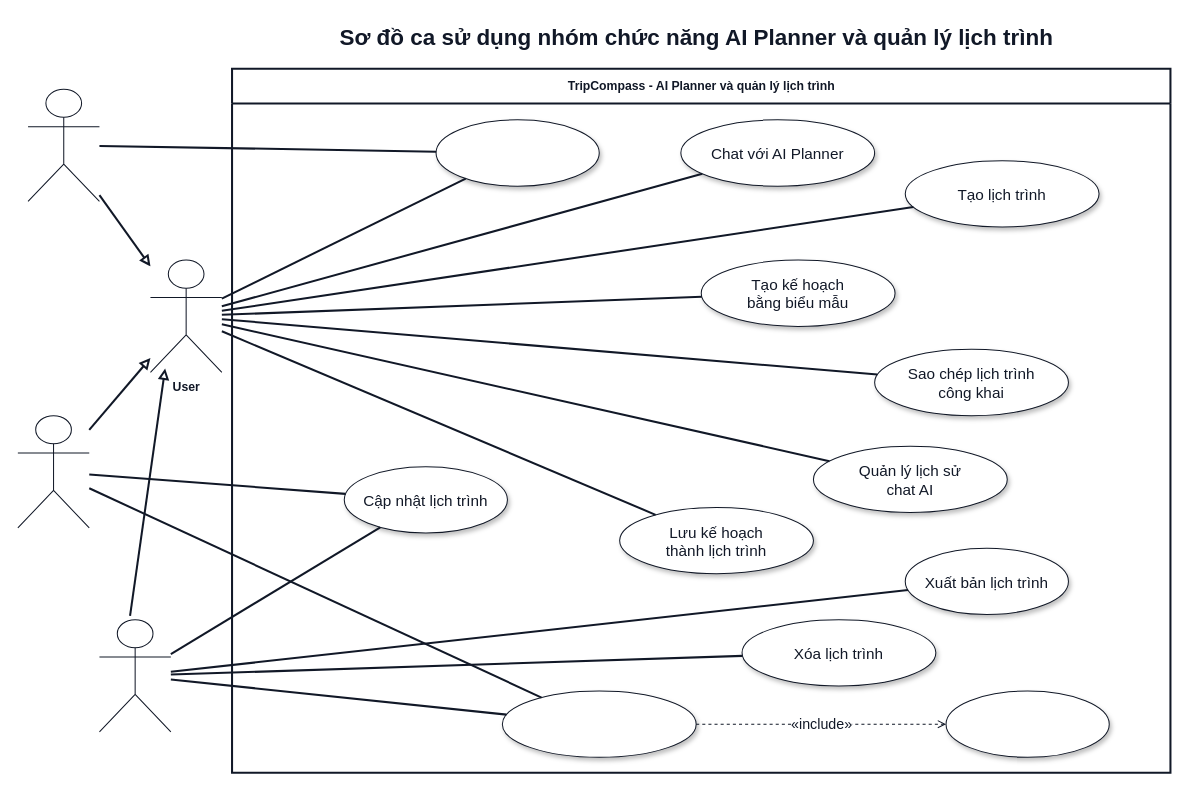
This 1189x791 diagram has some shape labels left out. The shapes that lost their labels are listed below. From the top down, each one's centre as x and y in pixels, then its label:
point (63, 144): Viewer
point (518, 154): Xem lịch trình
point (53, 471): Editor
point (134, 675): Owner
point (599, 725): Quản lý hoạt động
point (1028, 725): Sắp xếp hoạt động theo ngày
